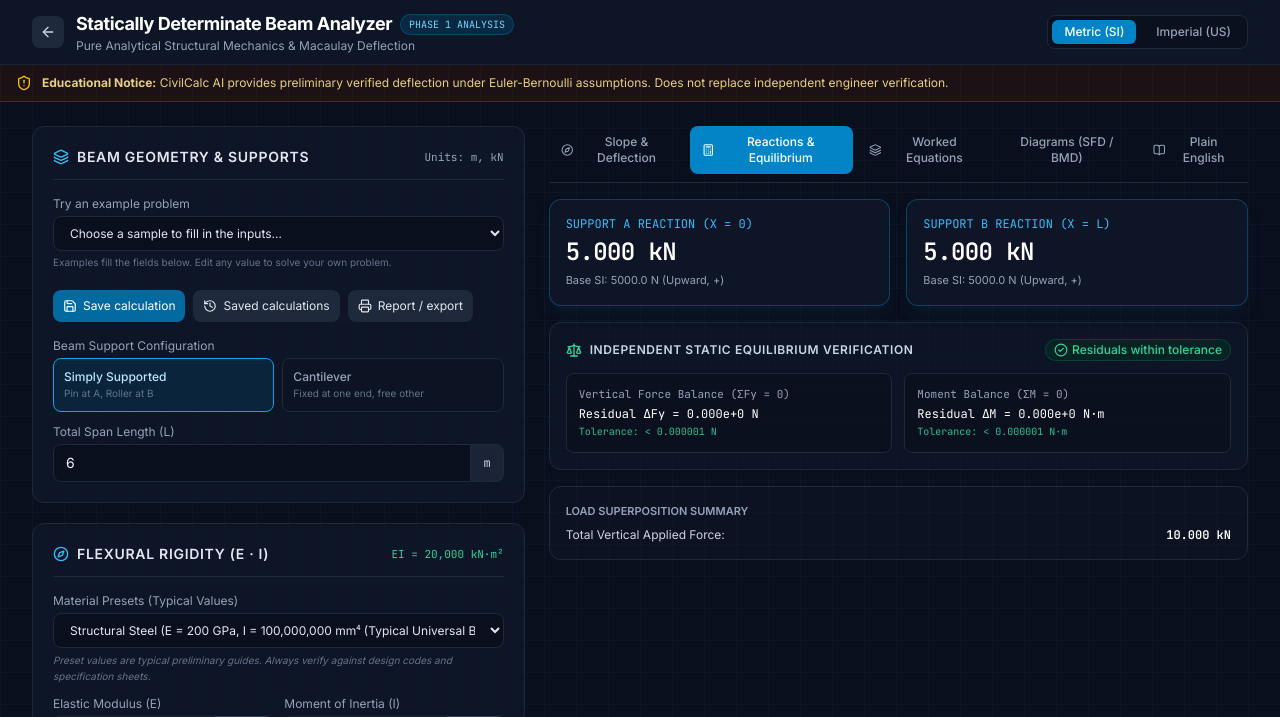
BeamWorkspace Component (Milestone 2 & 3) › switches between Metric and Imperial units dynamically
Click the button "Imperial (US)" at (1194, 32), box [1144, 20, 1243, 44]
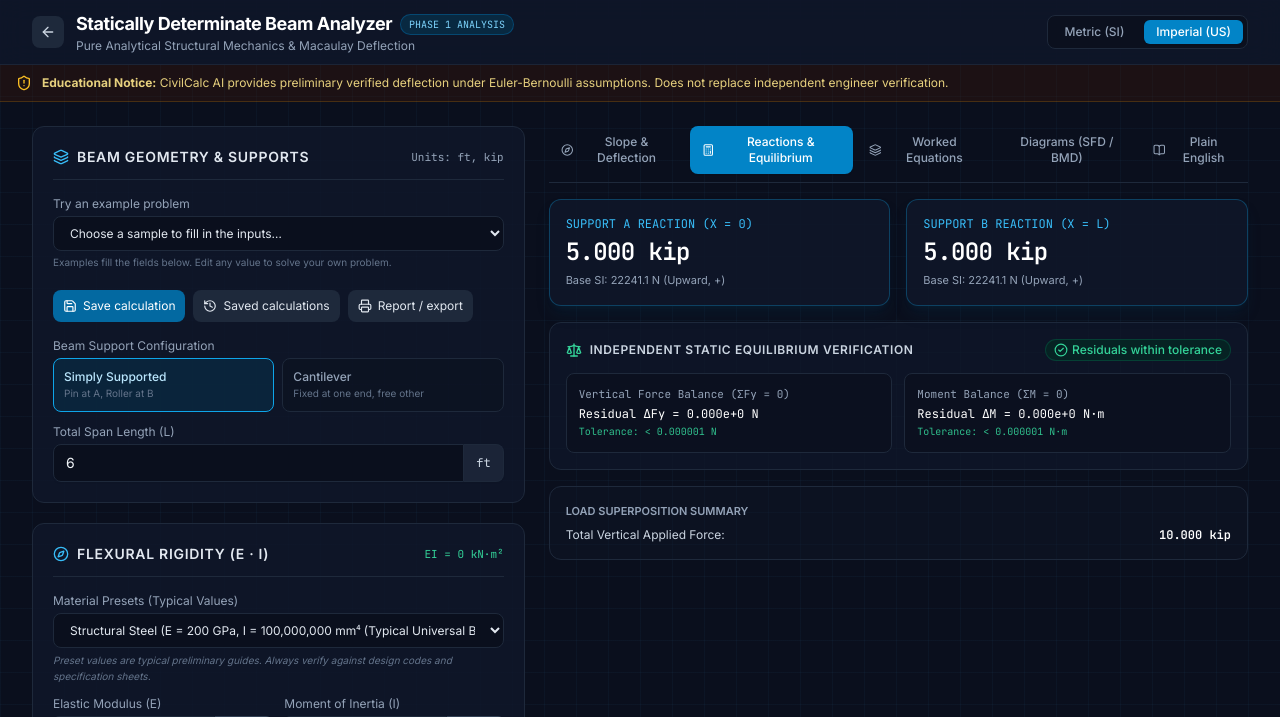
Expected: the text "Units: ft, kip" is shown, [411, 149, 504, 165]
